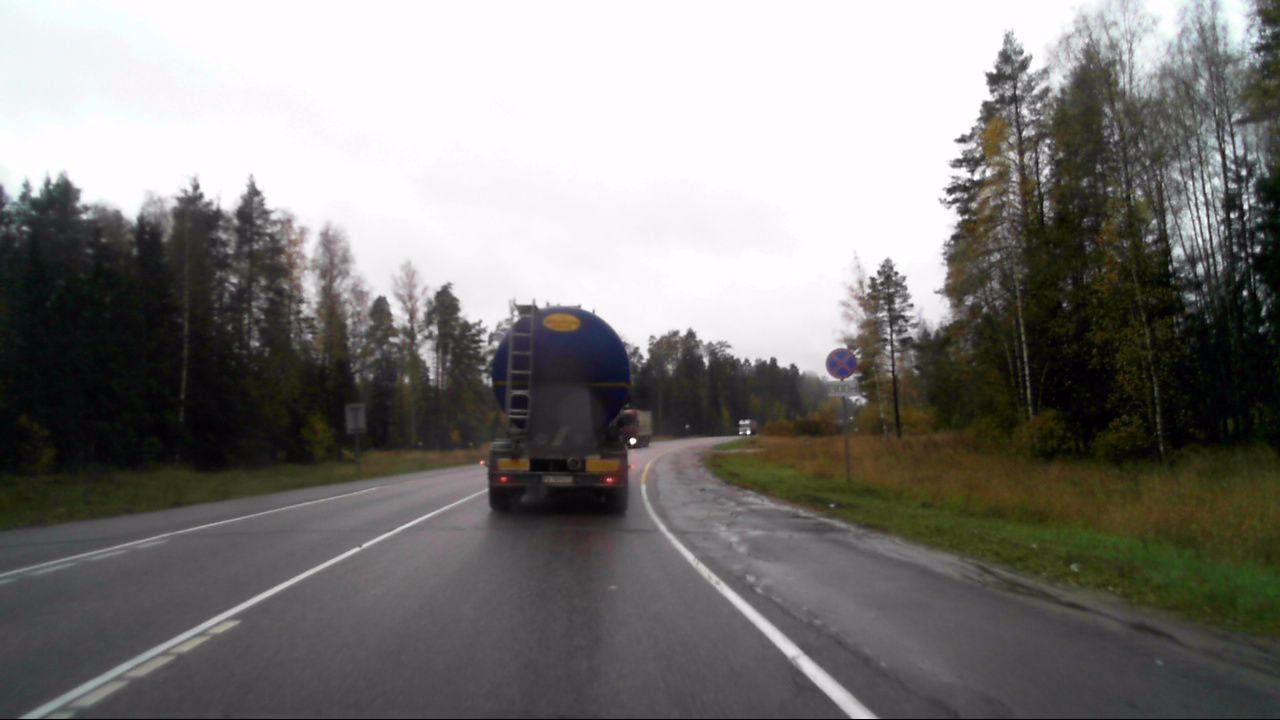No Parking: (824, 347, 857, 382)
